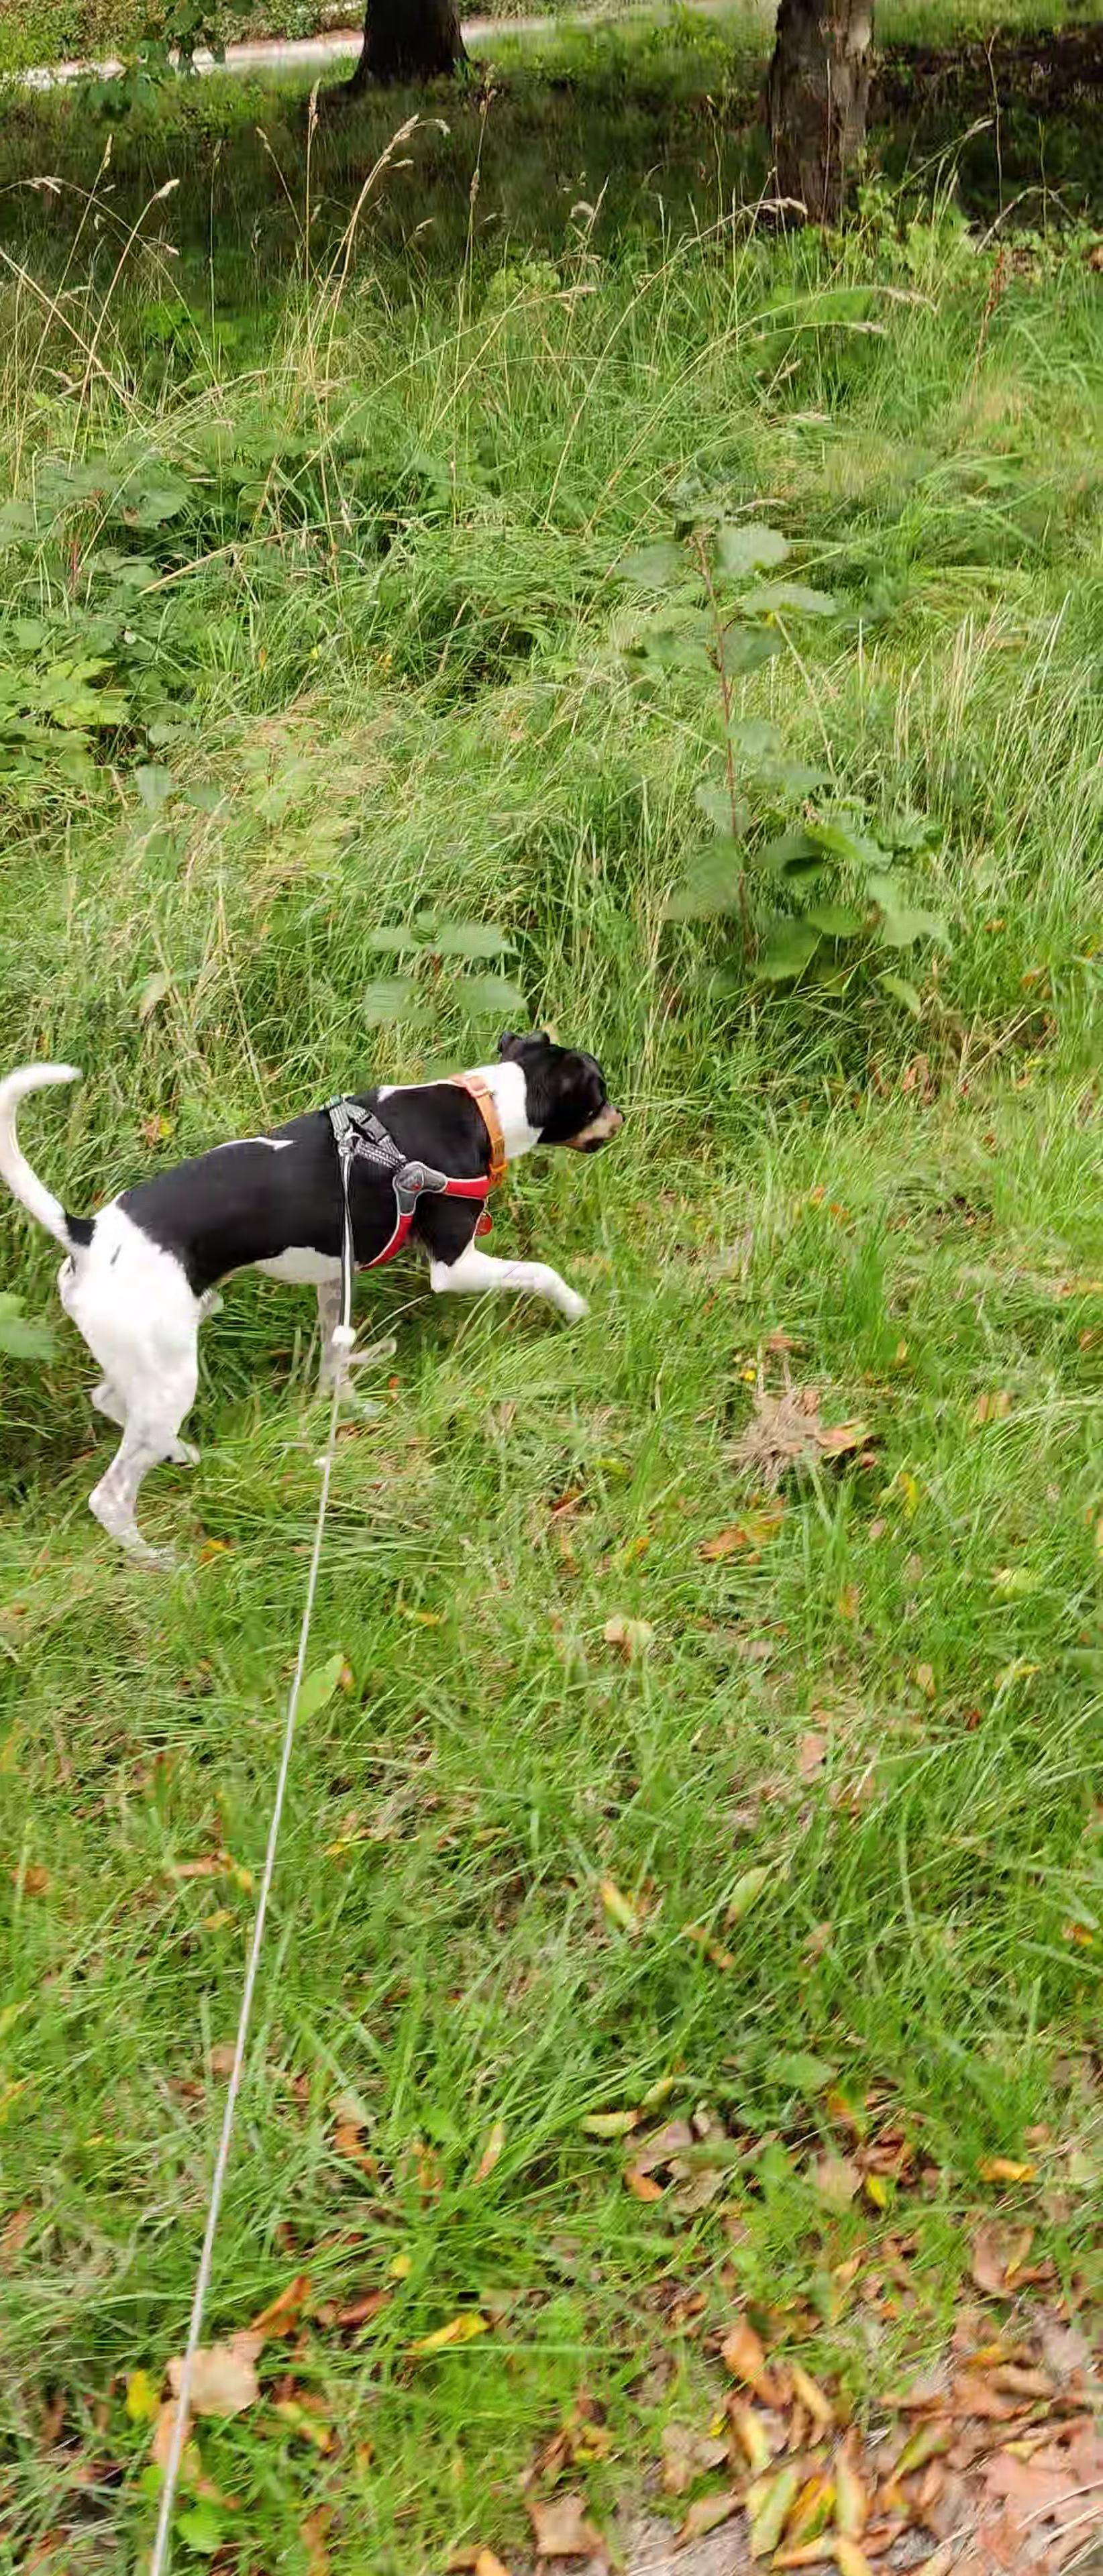Dog: (0, 1009, 630, 1584)
